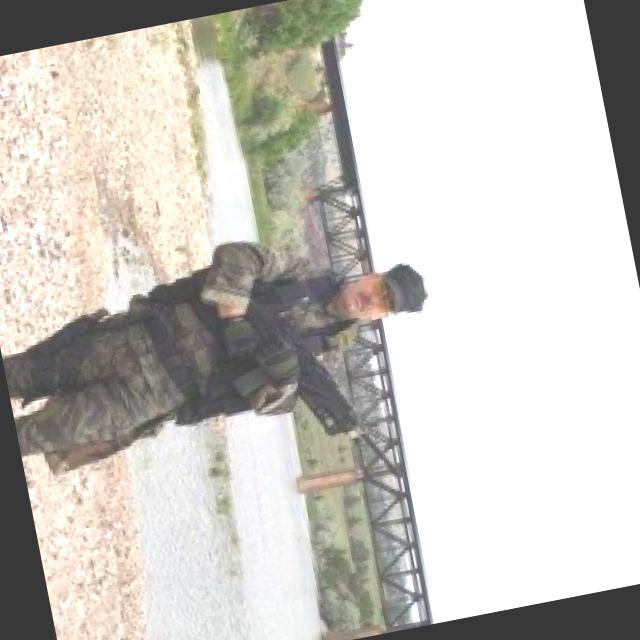long weapon: (180, 223, 414, 554)
